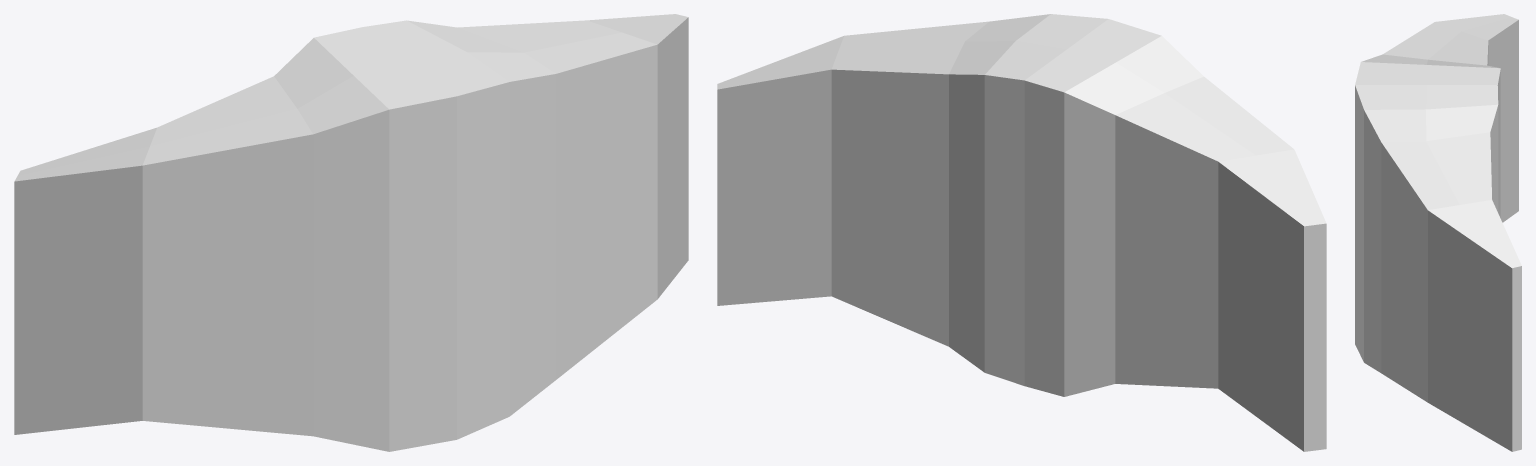
The model's file is forceWind.glb.
3 views of the same model, side by side, from view 1: azimuth 30°, elevation 25°; view 2: azimuth 150°, elevation 25°; view 3: azimuth 270°, elevation 25° (orthographic). The views are drawn at different scales.
Parts seen in each view (by area): view 1: Cube; view 2: Cube; view 3: Cube.
Boxes of the visible parts, box(x1,y1,x2,y2) form: Cube: box(14, 14, 688, 451); Cube: box(717, 14, 1326, 451); Cube: box(1355, 14, 1521, 451).
Size of the model in its own units: 12.38 by 5.98 by 3.49.
Materials: 1 (1 with a texture image).
